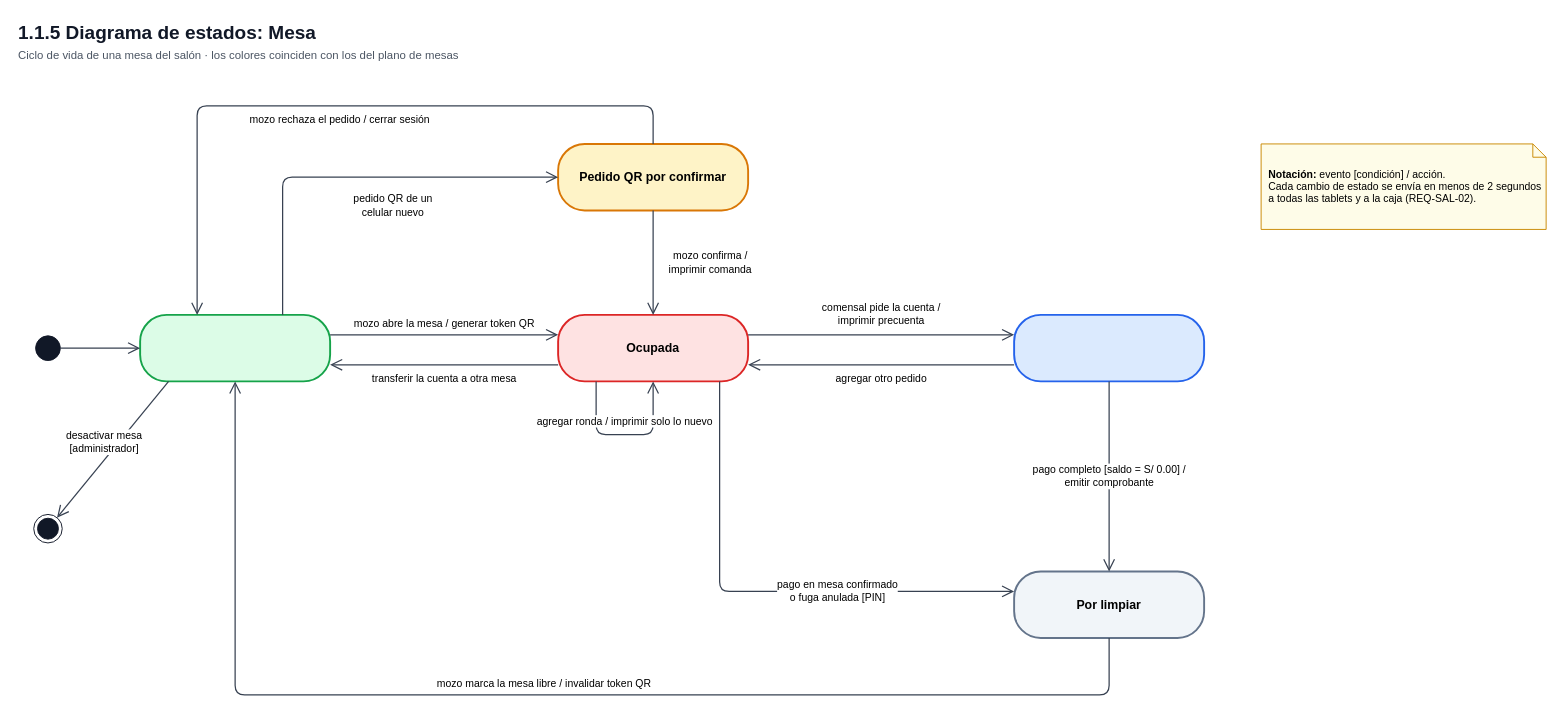
The diagram is 1563 pixels wide and 723 high, and some of its shapes have lost their labels. Here are the shapes that lost their labels. From the top down, the centre of each, then its label:
point 235,348: Libre
point 1109,348: Cuenta solicitada
